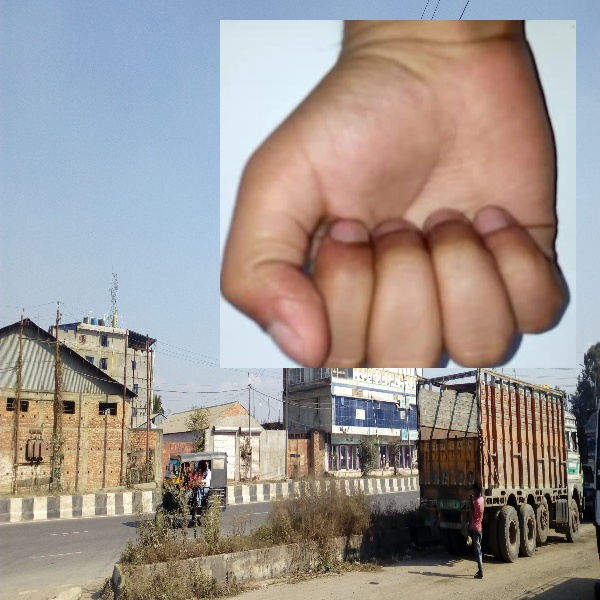A: (220, 20, 576, 368)
